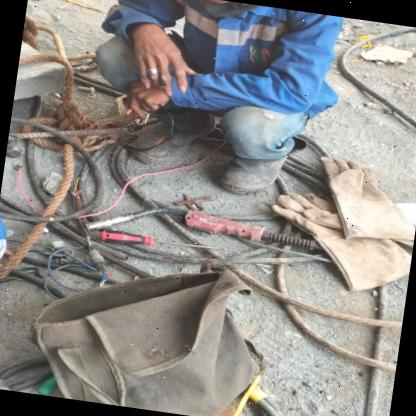bota: (138, 106, 220, 173), (218, 146, 296, 203)
